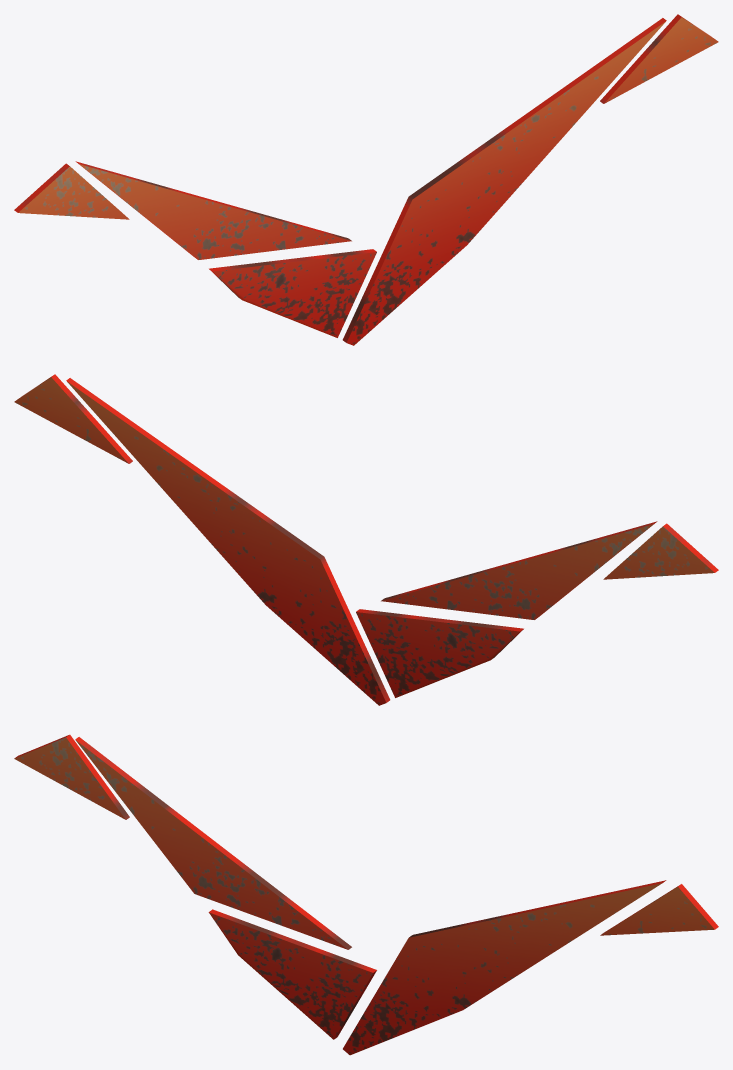
File: ribbon.fbx
3 views of the same model, one above another, from view 1: azimuth 30°, elevation 25°; view 2: azimuth 150°, elevation 25°; view 3: azimuth 330°, elevation 25° (orthographic).
Parts seen in each view (by area): view 1: ribbon; view 2: ribbon; view 3: ribbon.
Part boxes in pixels (x1=…): ribbon: x1=14, y1=14, x2=718, y2=345; ribbon: x1=14, y1=374, x2=718, y2=705; ribbon: x1=14, y1=734, x2=718, y2=1055.
Bounding box in the file's own units: 262 × 88.88 × 2.57.
